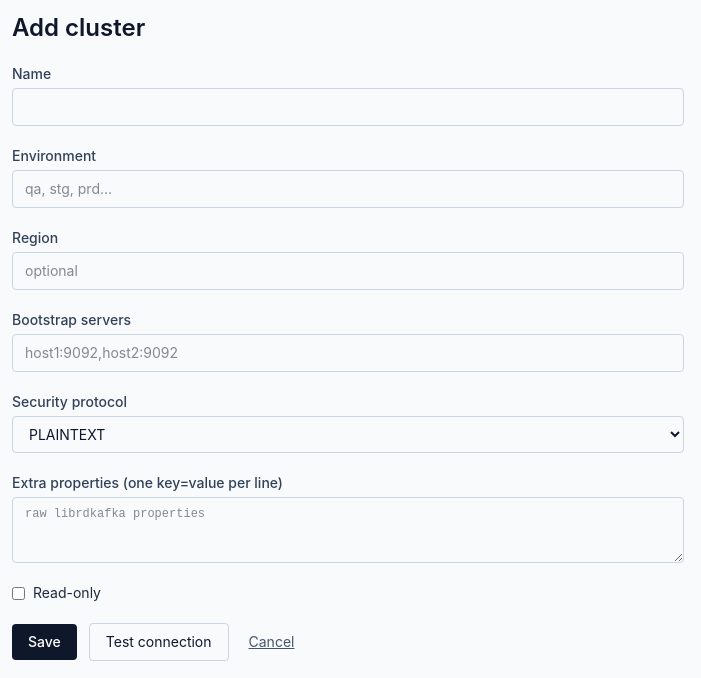
ClusterForm test connection › clears a stale "Connection OK" once the environment is changed
Step 1. Type "dev" into the field labelled "Name" → (348, 107), box [12,88,684,126]
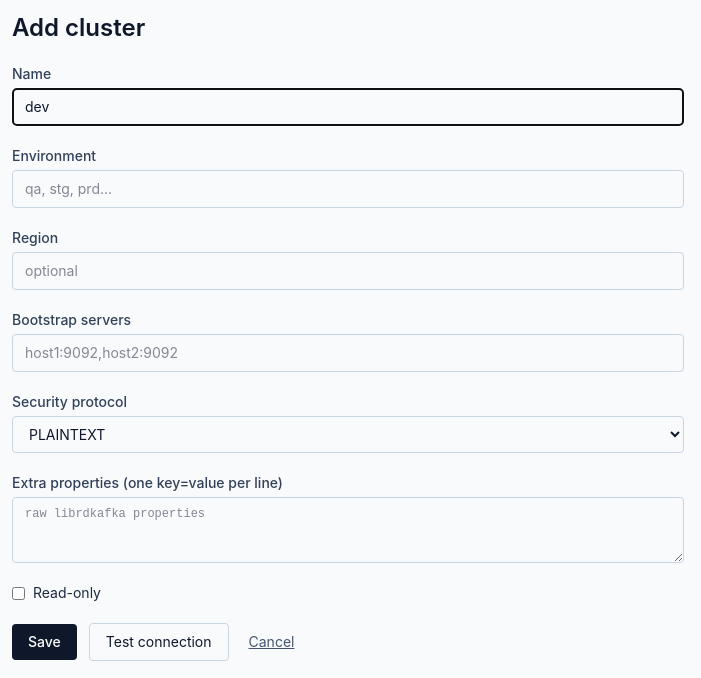
Step 2. Type "dev" into the field labelled "Environment" → (348, 189), box [12,170,684,208]
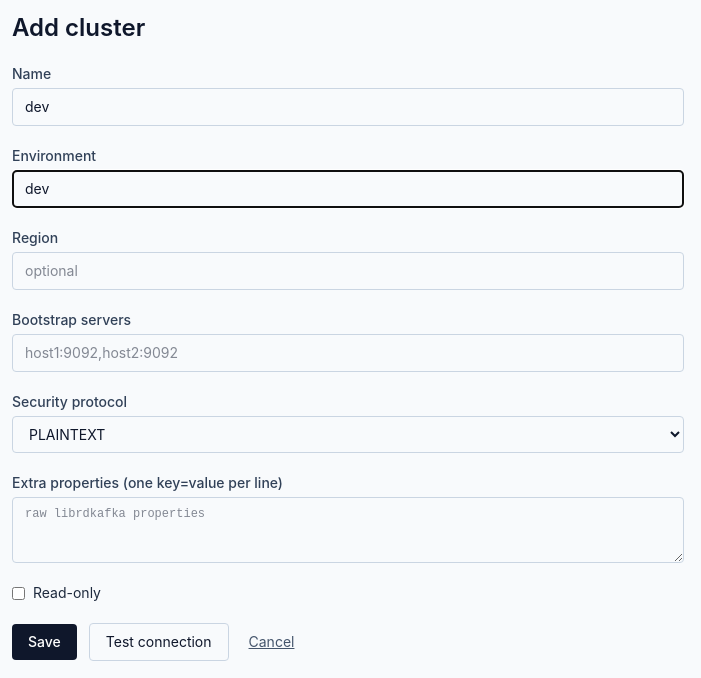
Step 3. Type "localhost:9092" into the field labelled "Bootstrap servers" → (348, 353), box [12,334,684,372]
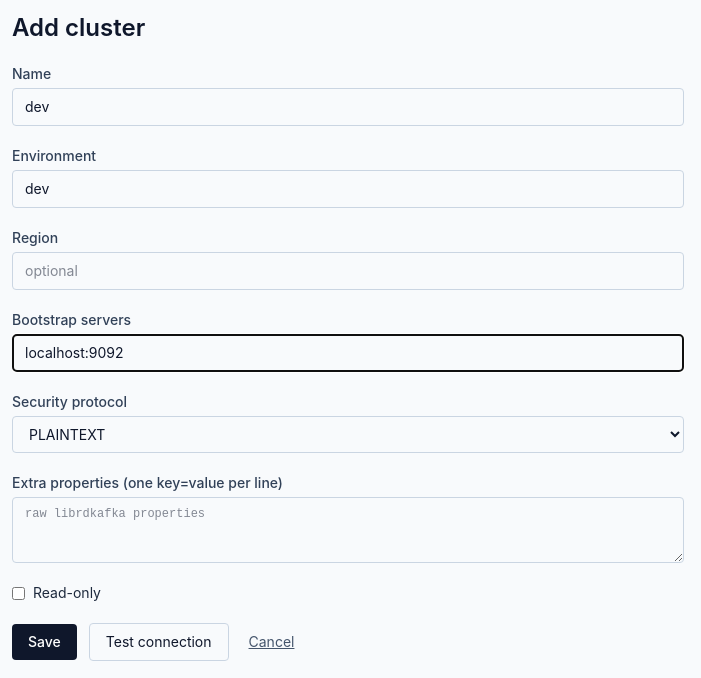
Step 4. Click the button "Test connection" → (159, 642), box [89,623,229,661]
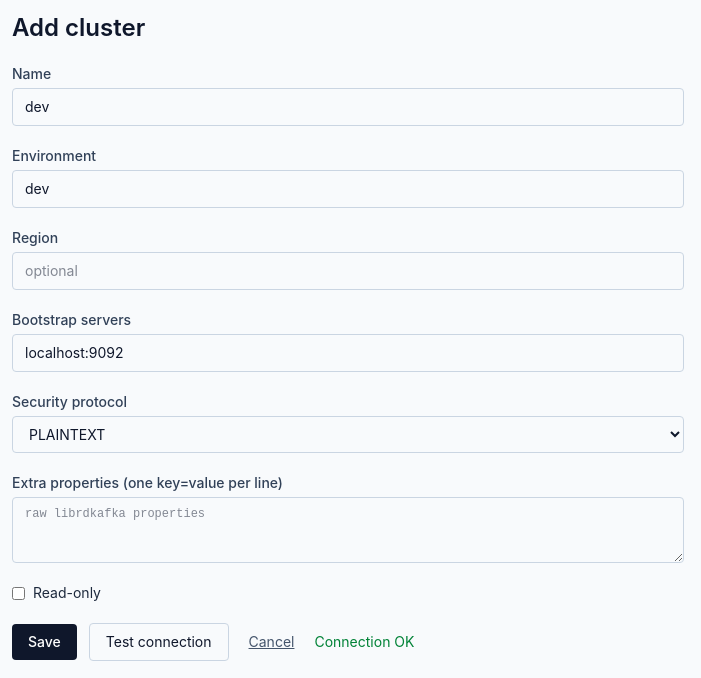
Now the text "Connection OK" is shown, box [314,633,414,650]
Step 5. Type "x" into the field labelled "Environment" → (348, 189), box [12,170,684,208]
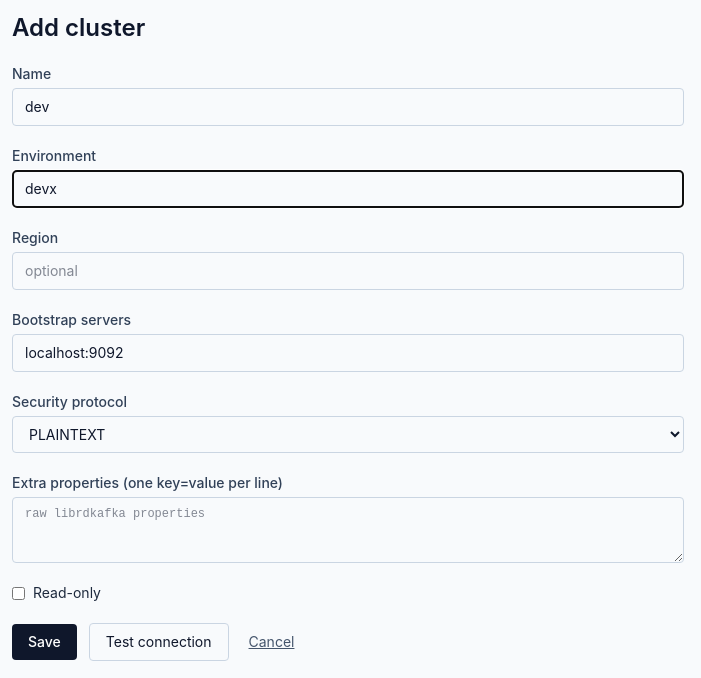
Now the text "Connection OK" is gone
